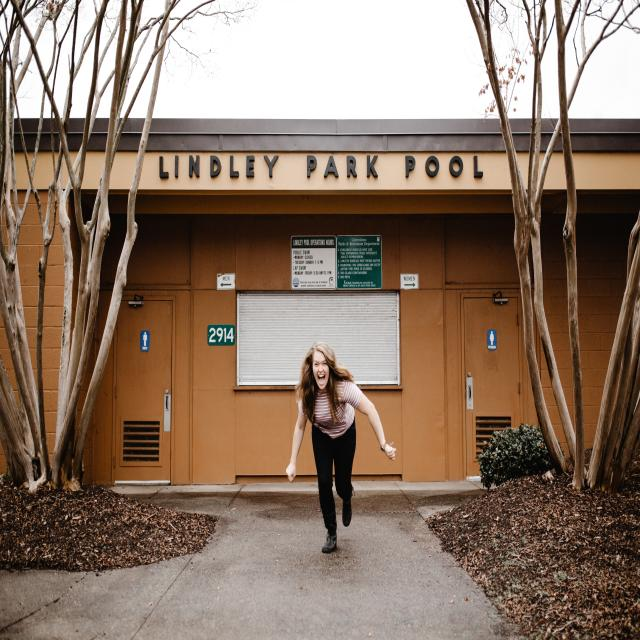standing: (287, 342, 400, 558)
